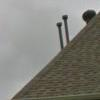Chimney: (51, 8, 72, 53)
